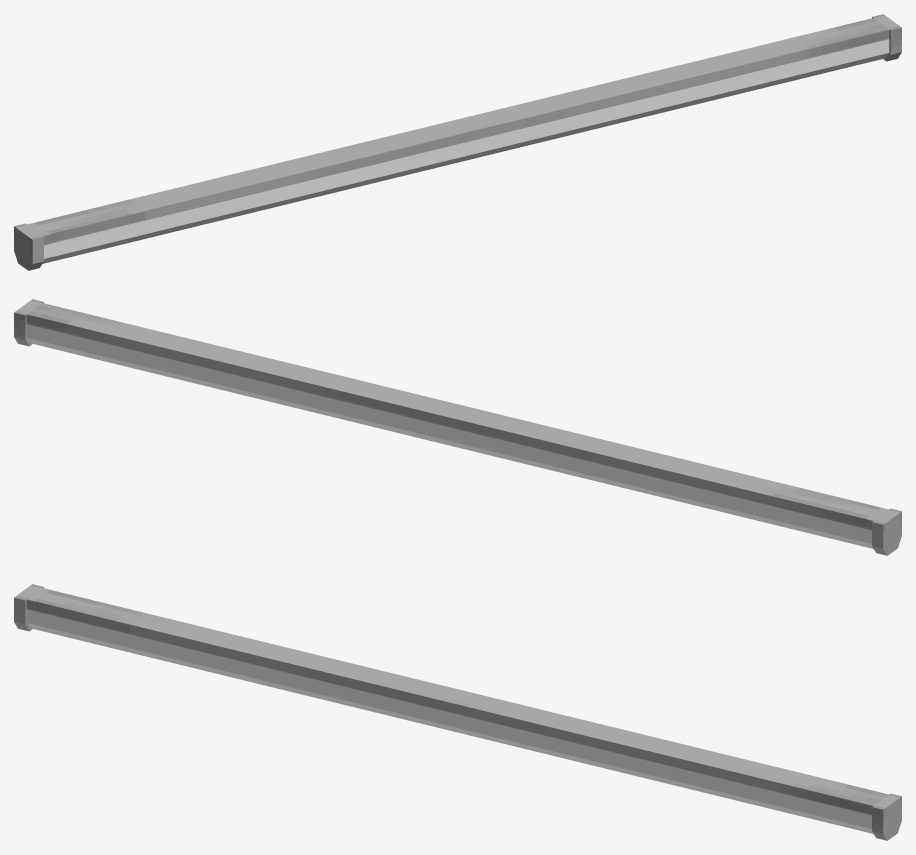
File: Ceiling_Light_02.fbx
The picture shows the model from 3 angles, top to bottom: view 1: azimuth 30°, elevation 25°; view 2: azimuth 150°, elevation 25°; view 3: azimuth 330°, elevation 25°; orthographic projection.
Visible parts, largest first — view 1: Cube; view 2: Cube; view 3: Cube.
Boxes of the visible parts, x1,y1,x2,y2 form: Cube: (14, 14, 901, 270); Cube: (14, 299, 901, 555); Cube: (14, 584, 901, 840).
Bounding box in the file's own units: 244 × 9.14 × 8.99.
